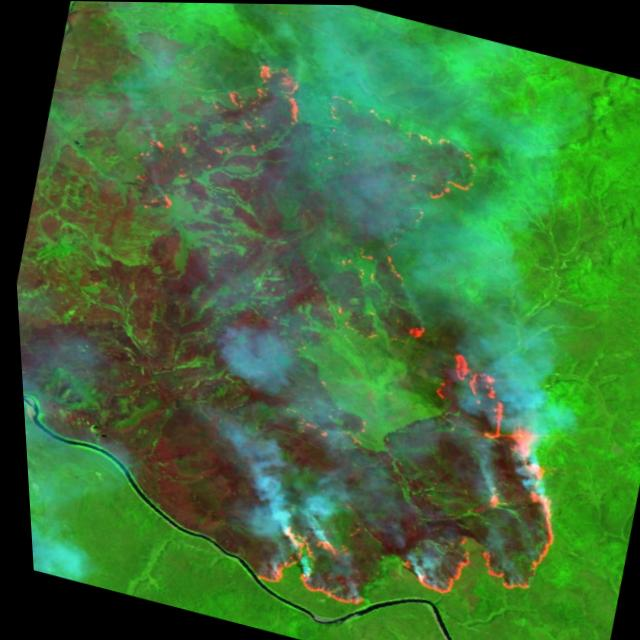fire: (23, 16, 640, 640)
